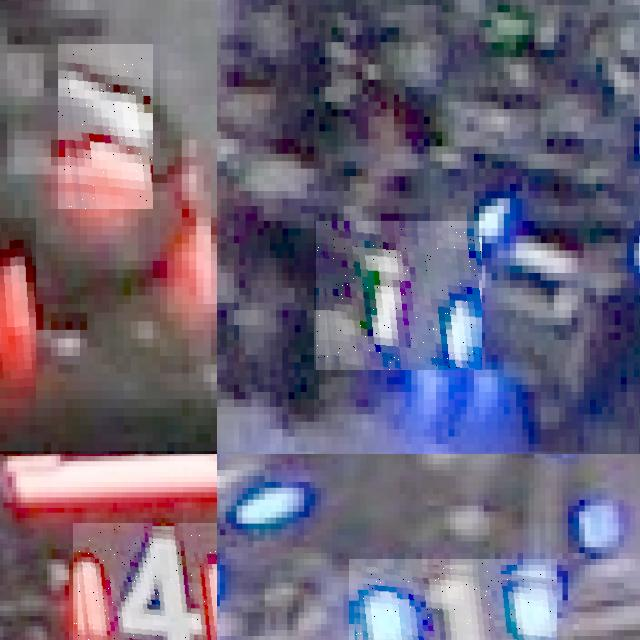B1: (316, 221, 482, 370), (349, 559, 556, 640), (217, 454, 298, 523)
R4: (73, 523, 217, 640), (58, 44, 153, 209)
